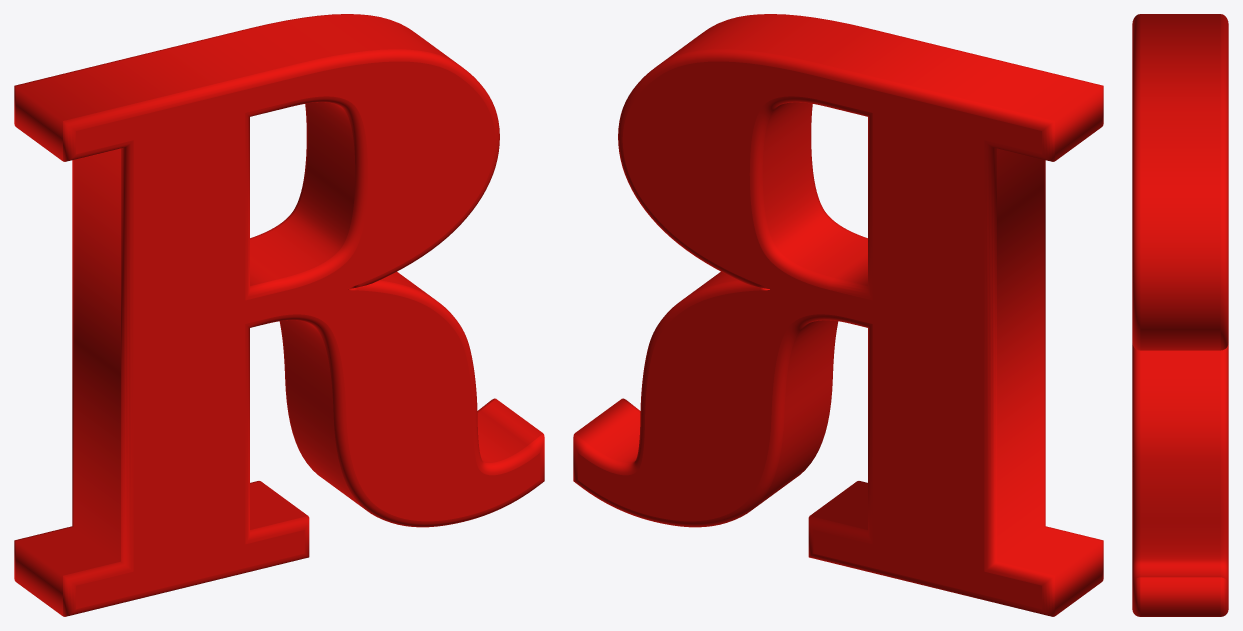
The model's file is capital_r.fbx.
3 renders of one model, left to right at view 1: azimuth 30°, elevation 25°; view 2: azimuth 150°, elevation 25°; view 3: azimuth 270°, elevation 25°, orthographic. The views are drawn at different scales.
Parts seen in each view (by area): view 1: Text; view 2: Text; view 3: Text.
Part boxes in pixels (x1,y1,x2,y2): Text: [14, 14, 544, 616]; Text: [573, 14, 1103, 616]; Text: [1132, 14, 1228, 616].
Bounding box in the file's own units: 224 × 222 × 45.87.
